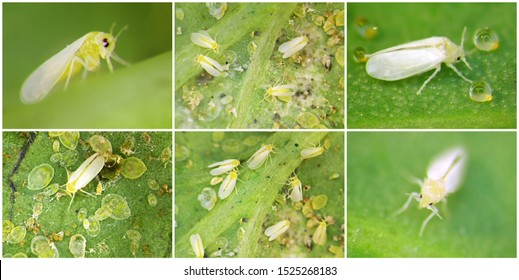Tobacco Whitefly: (28, 27, 137, 112), (362, 17, 472, 91), (60, 151, 103, 207), (273, 22, 317, 71), (236, 133, 274, 179), (186, 19, 225, 55), (179, 223, 217, 257), (195, 52, 225, 77)
